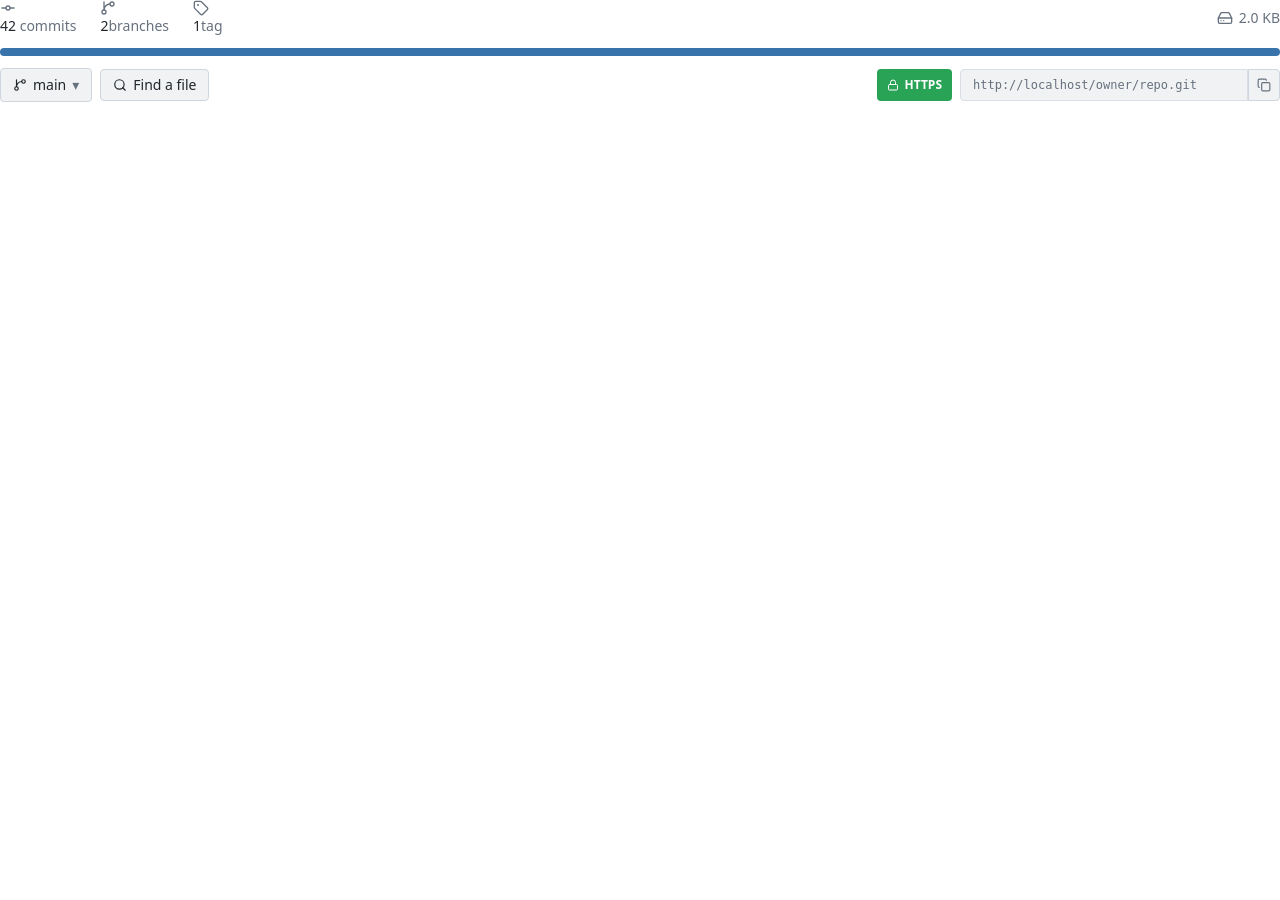
Scenario: RepoStats › retries a failed branch request and keeps the picker usable
This screenshot has width=1280, height=900.
Click the button with aria-label "Switch branch". click: (46, 85)
box: [0,68,92,102]
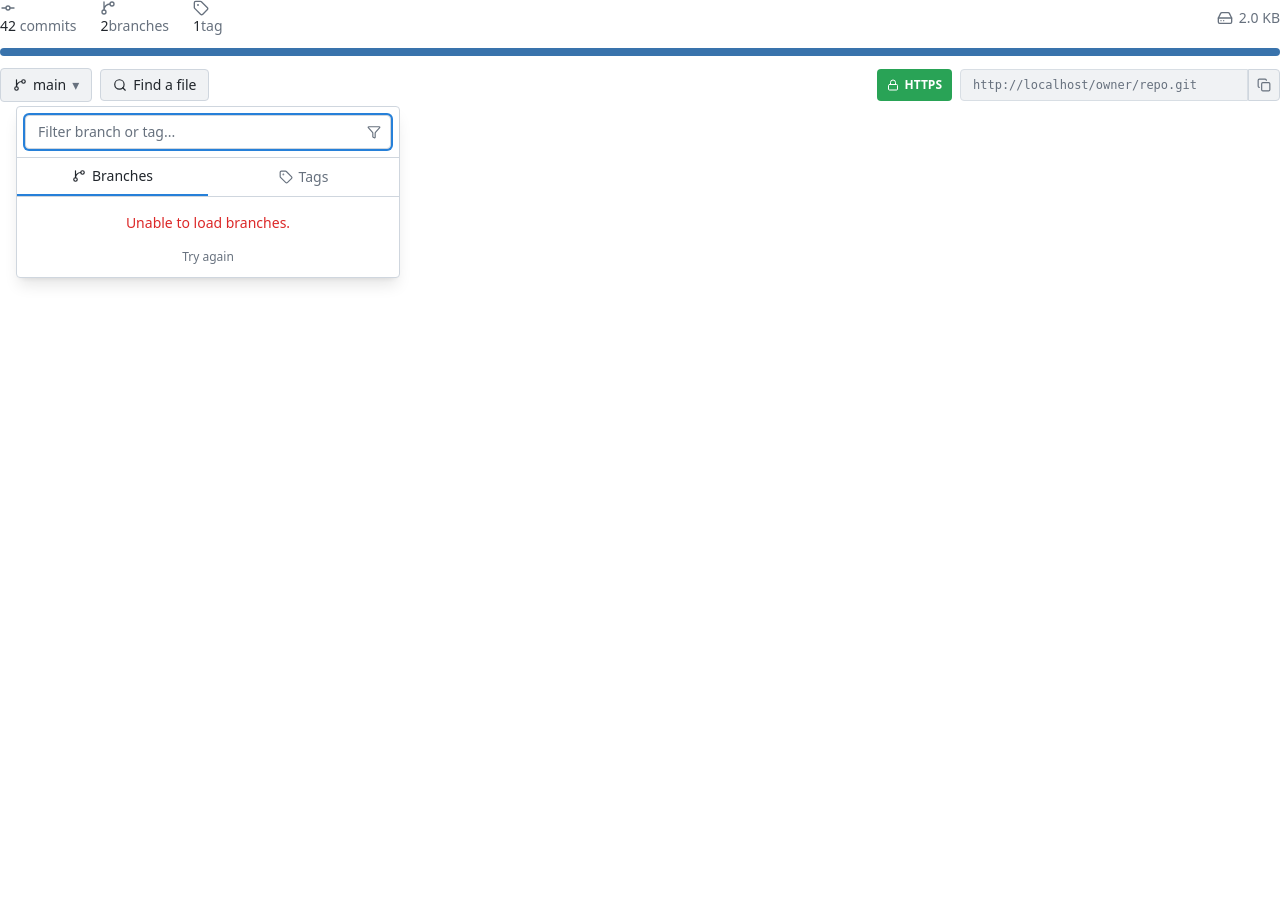
Expected: the message shows "Unable to load branches", [126,213,290,232]
Click the button "Try again". click: (208, 257)
box: [182,249,234,265]
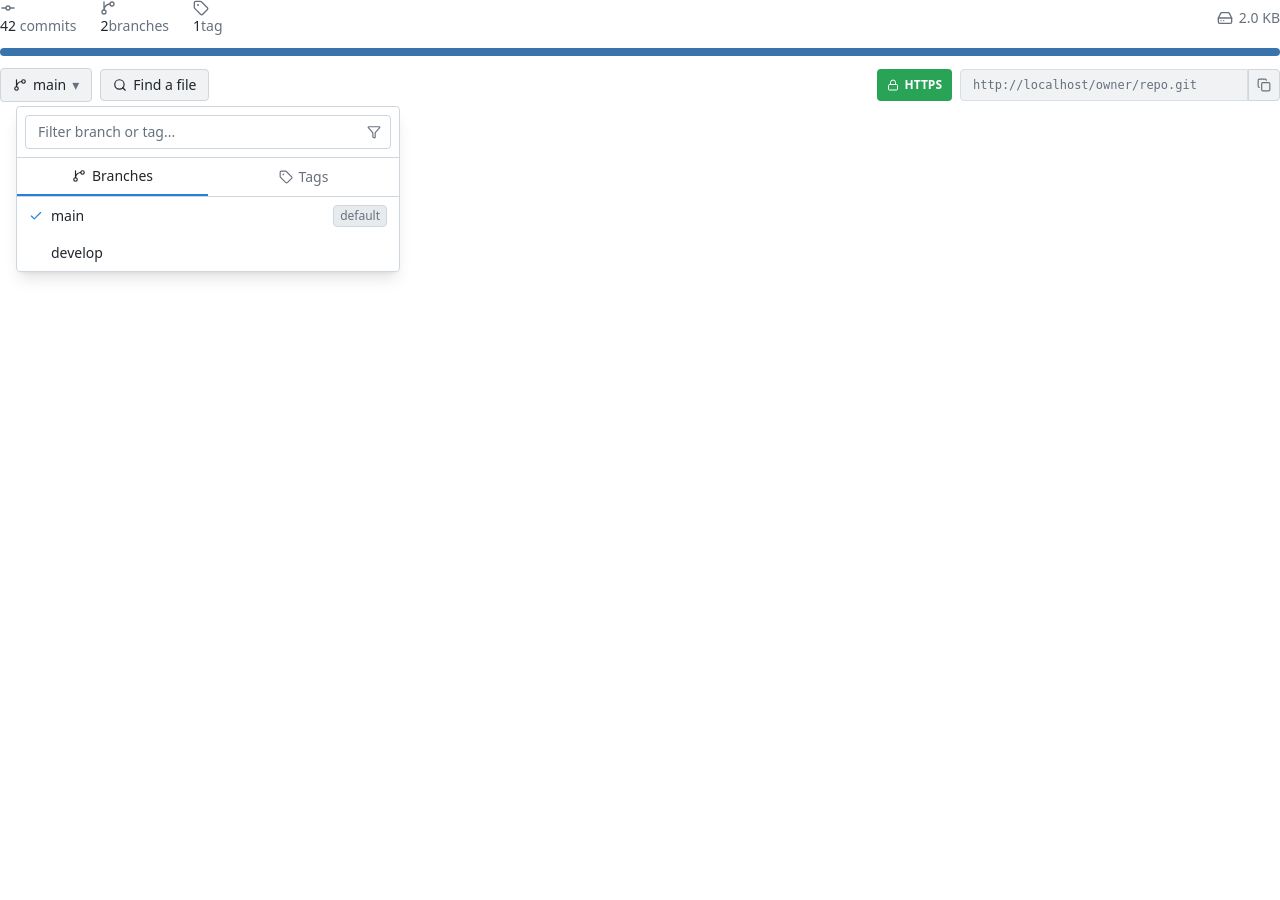
Expected: the message "Unable to load branches." is gone
Expected: the option "develop" is shown, [17,235,399,271]
